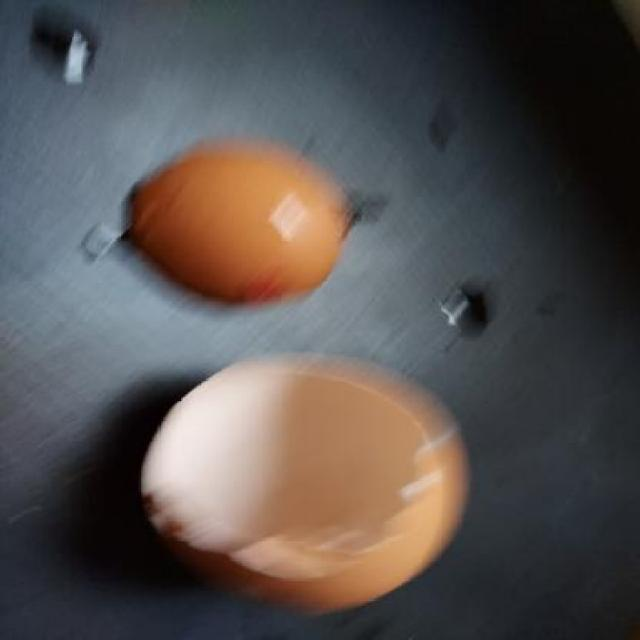biodegradable: (140, 352, 468, 614), (132, 134, 360, 308)
